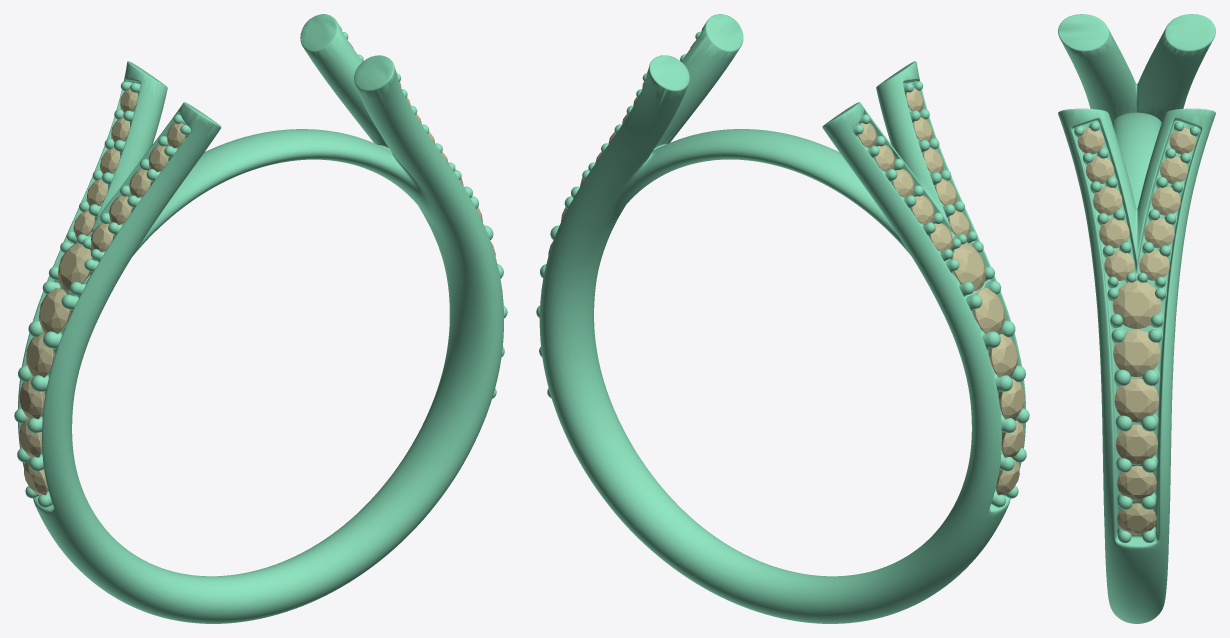
3 renders of one model, left to right at view 1: azimuth 30°, elevation 25°; view 2: azimuth 150°, elevation 25°; view 3: azimuth 270°, elevation 25°, orthographic. The views are drawn at different scales.
Visible parts, largest first — view 1: Metal02, Diamond_Gem, Diamond_Gem.008, Diamond_Gem.007, Diamond_Gem.009; view 2: Metal02, Diamond_Gem, Diamond_Gem.008, Diamond_Gem.007, Diamond_Gem.009; view 3: Metal02, Diamond_Gem.031, Diamond_Gem.023, Diamond_Gem.024, Diamond_Gem.022, Diamond_Gem.021, Diamond_Gem.020, Diamond_Gem.025, Diamond_Gem.027, Diamond_Gem.028, Diamond_Gem.026, Diamond_Gem.019 (+5 smaller).
Boxes of the visible parts, x1,y1,x2,y2 form: Metal02: (14, 14, 507, 623); Diamond_Gem: (58, 243, 91, 290); Diamond_Gem.008: (39, 288, 71, 333); Diamond_Gem.007: (26, 334, 55, 377); Diamond_Gem.009: (19, 378, 45, 419); Metal02: (536, 14, 1029, 623); Diamond_Gem: (952, 243, 985, 290); Diamond_Gem.008: (972, 288, 1004, 333); Diamond_Gem.007: (988, 333, 1017, 377); Diamond_Gem.009: (998, 378, 1024, 419); Metal02: (1058, 14, 1215, 623); Diamond_Gem.031: (1112, 280, 1161, 328); Diamond_Gem.023: (1113, 330, 1160, 376); Diamond_Gem.024: (1114, 378, 1159, 422); Diamond_Gem.022: (1116, 424, 1157, 464); Diamond_Gem.021: (1117, 465, 1156, 500); Diamond_Gem.020: (1117, 503, 1156, 534); Diamond_Gem.025: (1144, 218, 1174, 248); Diamond_Gem.027: (1099, 218, 1129, 248); Diamond_Gem.028: (1104, 250, 1134, 280); Diamond_Gem.026: (1139, 250, 1169, 280); Diamond_Gem.019: (1151, 186, 1180, 215).
Bounding box in the file's own units: 21.07 × 23.31 × 6.2.
